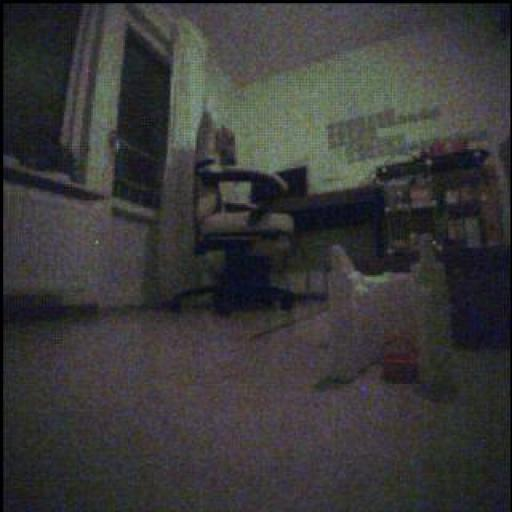basket: (384, 337, 419, 385)
